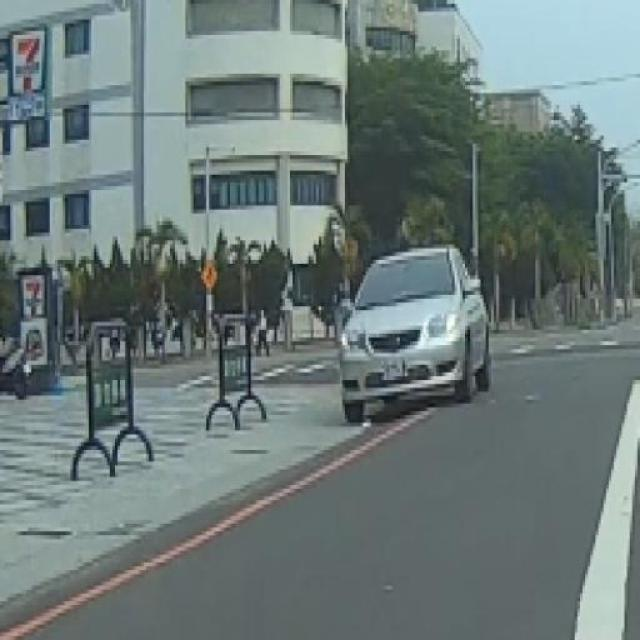illegalparking: (328, 233, 498, 435)
